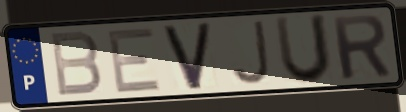B: (47, 29, 104, 99)
E: (104, 25, 164, 95)
J: (228, 19, 272, 87)
R: (328, 12, 394, 82)
U: (272, 12, 334, 87)
V: (160, 20, 214, 93)
